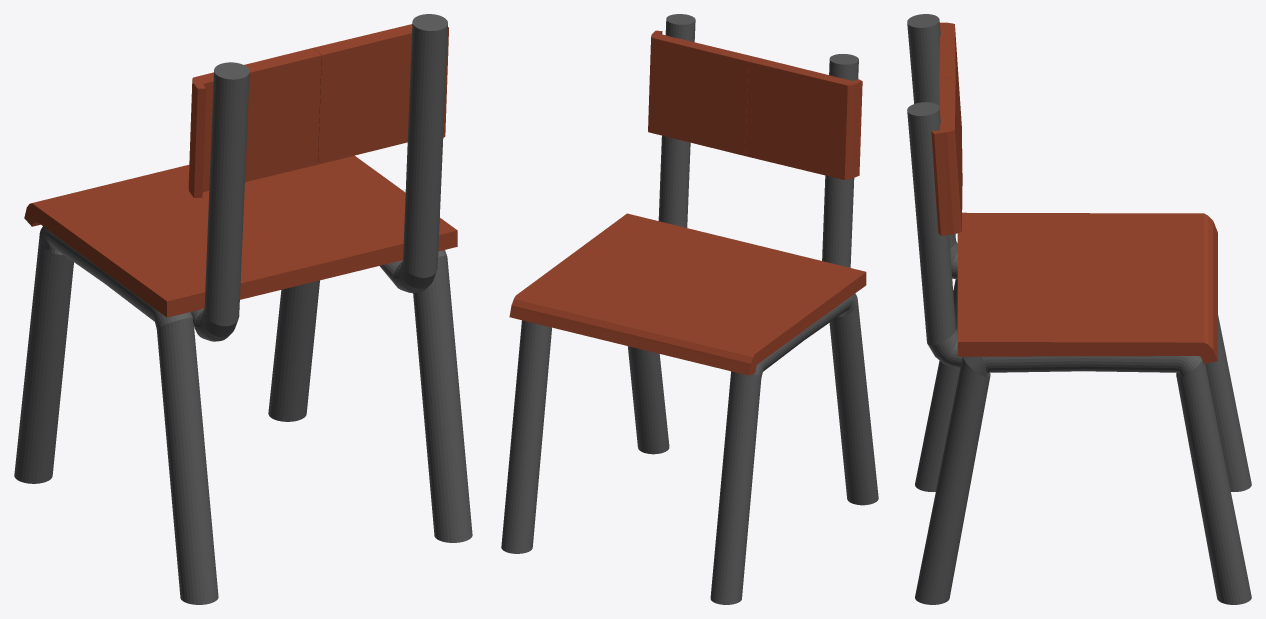
File: schoolChair.fbx
3 views of the same model, side by side, from view 1: azimuth 30°, elevation 25°; view 2: azimuth 150°, elevation 25°; view 3: azimuth 270°, elevation 25° (orthographic). The views are drawn at different scales.
Parts seen in each view (by area): view 1: Cylinder, Cube.001, Cube.002, Cylinder.002, Cylinder.001; view 2: Cube.001, Cylinder, Cube.002, Cylinder.001, Cylinder.002; view 3: Cube.001, Cylinder, Cylinder.002, Cube.002, Cylinder.001.
Part boxes in pixels (bbox=[...]): Cylinder: bbox=[14, 226, 472, 604]; Cube.001: bbox=[24, 155, 457, 317]; Cube.002: bbox=[188, 24, 448, 197]; Cylinder.002: bbox=[380, 14, 447, 293]; Cylinder.001: bbox=[191, 62, 249, 341]; Cube.001: bbox=[509, 213, 866, 375]; Cylinder: bbox=[501, 293, 878, 604]; Cube.002: bbox=[648, 30, 862, 179]; Cylinder.001: bbox=[822, 54, 858, 267]; Cylinder.002: bbox=[658, 14, 695, 227]; Cube.001: bbox=[957, 212, 1217, 363]; Cylinder: bbox=[915, 279, 1251, 604]; Cylinder.002: bbox=[907, 102, 962, 367]; Cube.002: bbox=[931, 22, 962, 235]; Cylinder.001: bbox=[907, 14, 957, 279].
Size of the model in its own units: 70.25 by 121 by 79.28.
